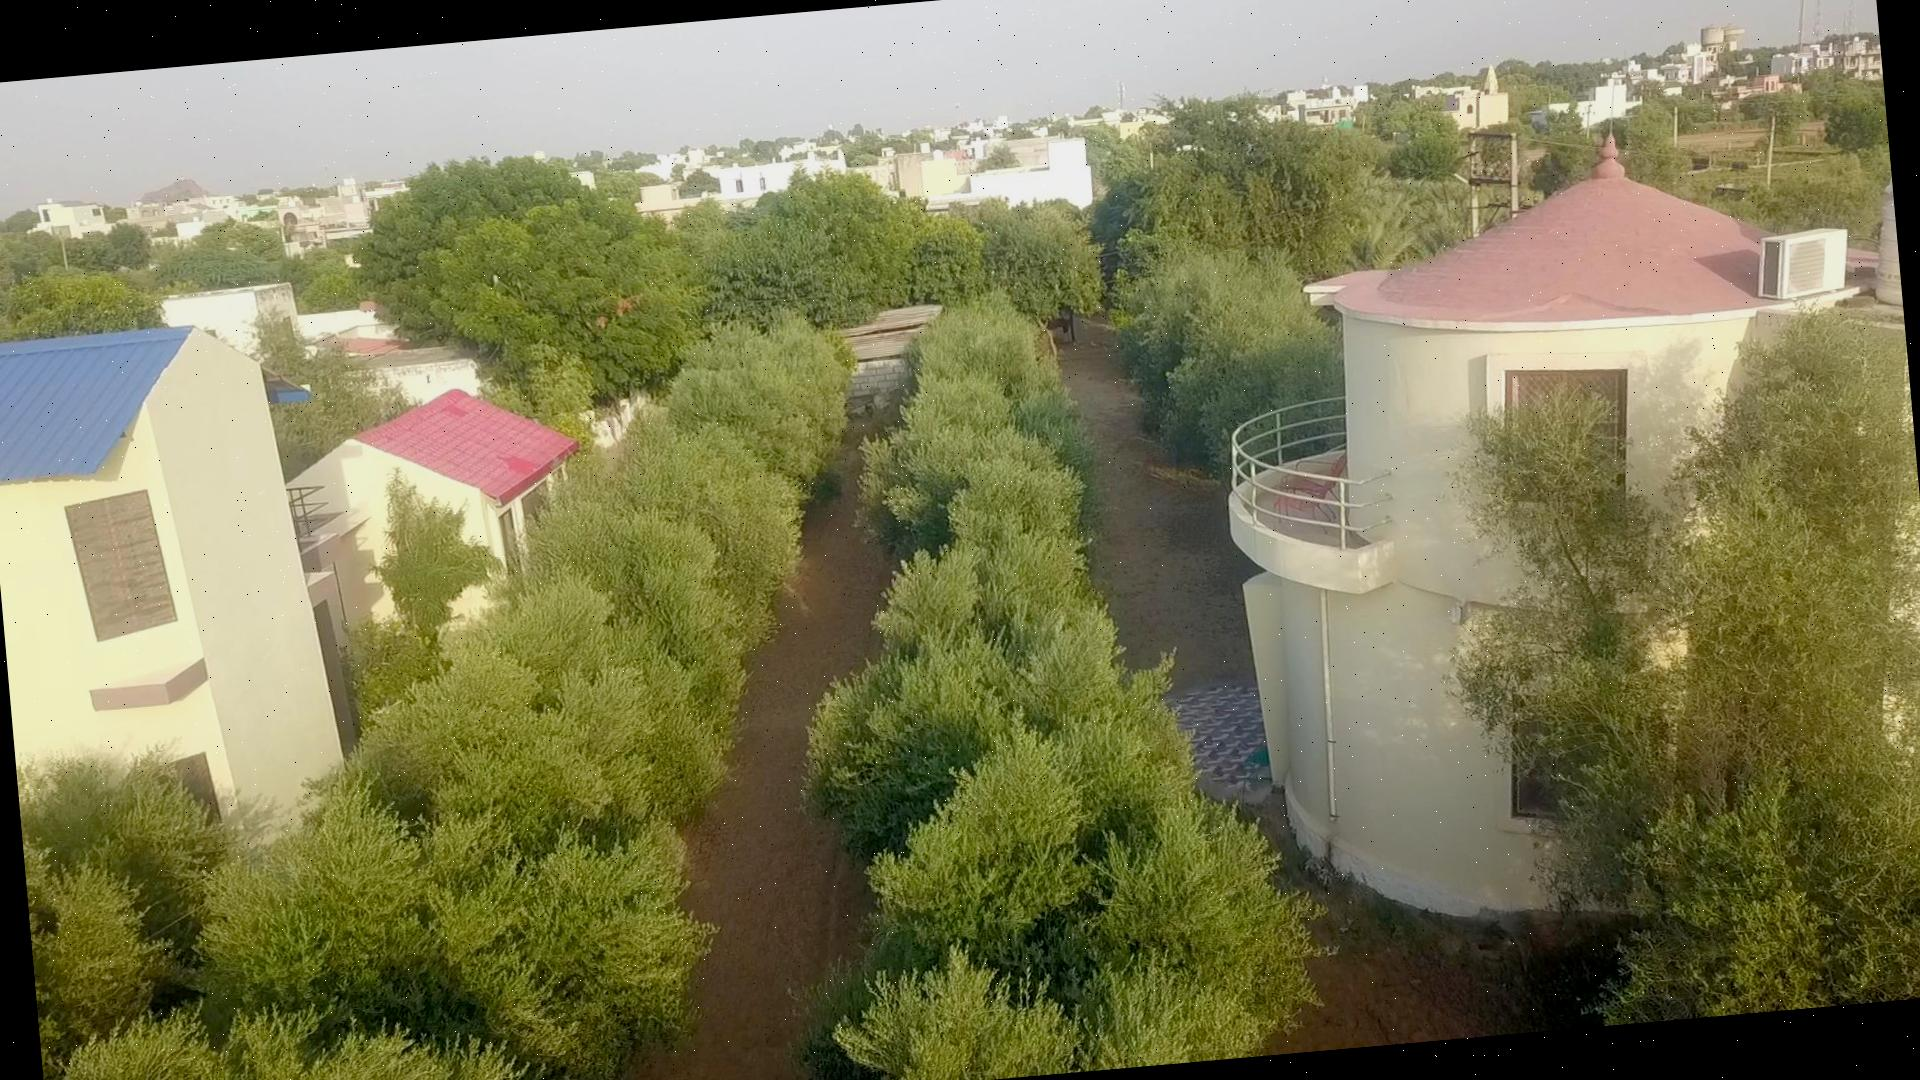canopy: (17, 326, 828, 1080), (808, 298, 1323, 1080)
road: (1059, 318, 1575, 1054), (628, 492, 893, 1080)
